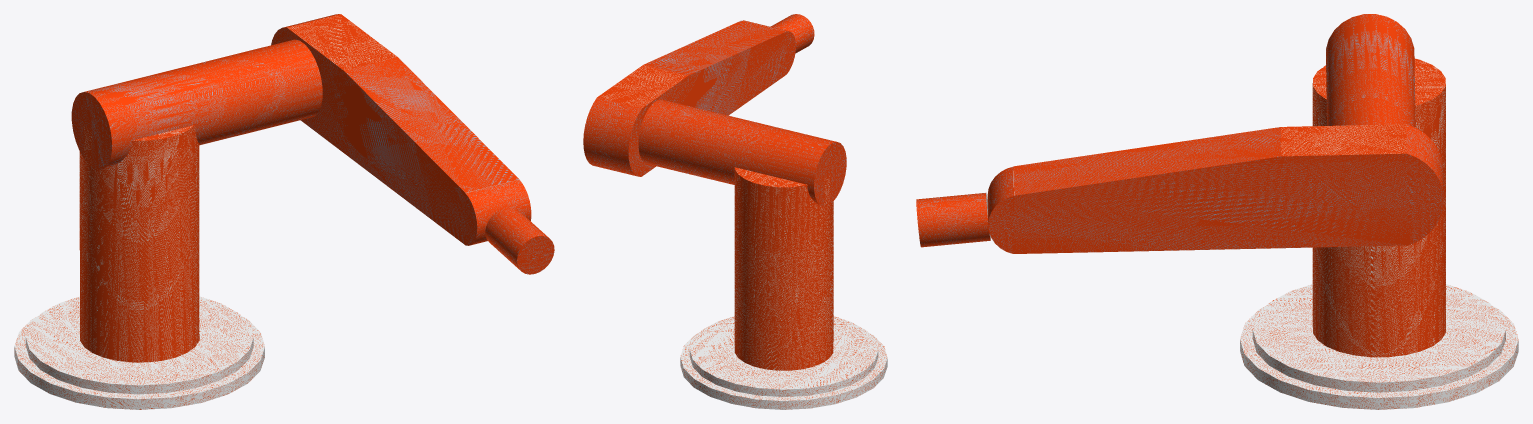
The model's file is machine2.dae.
3 renders of one model, left to right at view 1: azimuth 30°, elevation 25°; view 2: azimuth 150°, elevation 25°; view 3: azimuth 270°, elevation 25°, orthographic. The views are drawn at different scales.
Visible parts, largest first — view 1: machine2 (×4); view 2: machine2 (×4); view 3: machine2 (×4).
Boxes of the visible parts, box(x1,y1,x2,y2) form: machine2 (×4): box(14, 14, 554, 409); machine2 (×4): box(583, 14, 887, 409); machine2 (×4): box(916, 14, 1518, 409).
Bounding box in the file's own units: 292 × 422 × 243.
